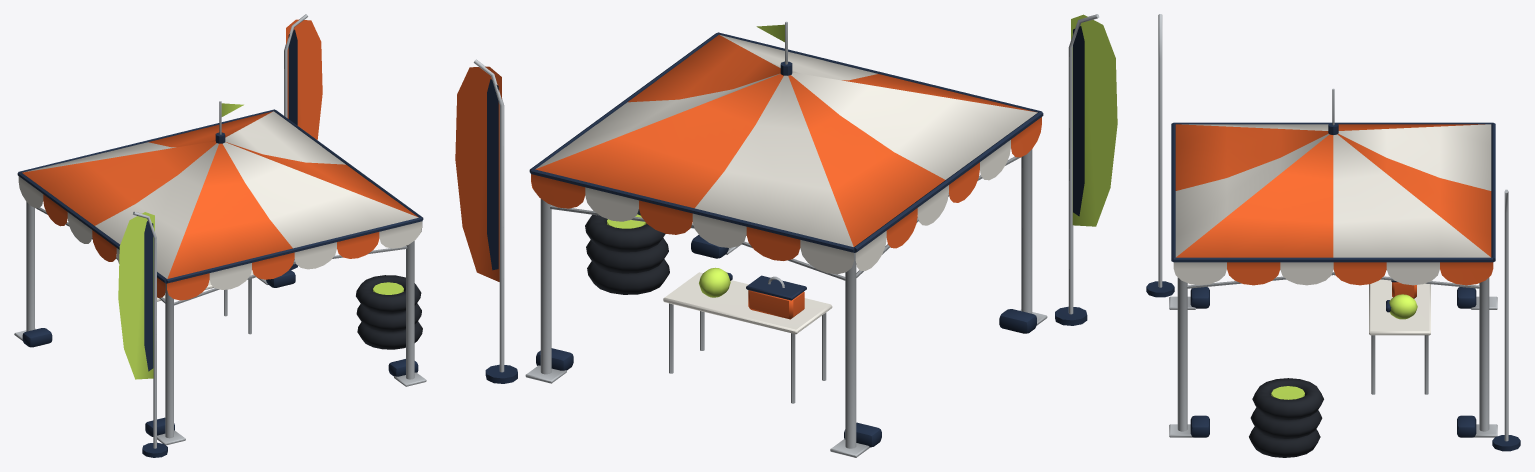
Rendered from tent.glb.
3 renders of one model, left to right at view 1: azimuth 30°, elevation 25°; view 2: azimuth 150°, elevation 25°; view 3: azimuth 270°, elevation 25°, orthographic. The views are drawn at different scales.
Visible parts, largest first — view 1: Pit tent Canopy orange, Pit tent Canopy ivory, Pit tent Pit steel, Pit tent Pit navy, Pit tent Pit lime, Pit tent Tyre rubber, Pit tent Pit navy print; view 2: Pit tent Canopy orange, Pit tent Canopy ivory, Pit tent Pit steel, Pit tent Pit navy, Pit tent Pit lime, Pit tent Tyre rubber, Pit tent Pit navy print; view 3: Pit tent Canopy ivory, Pit tent Canopy orange, Pit tent Pit steel, Pit tent Pit navy, Pit tent Tyre rubber, Pit tent Pit lime.
Boxes of the visible parts, x1,y1,x2,y2 form: Pit tent Canopy orange: (22, 19, 418, 300); Pit tent Canopy ivory: (18, 111, 422, 301); Pit tent Pit steel: (14, 14, 426, 448); Pit tent Pit navy: (17, 109, 423, 457); Pit tent Pit lime: (118, 103, 403, 379); Pit tent Tyre rubber: (356, 275, 422, 349); Pit tent Pit navy print: (144, 29, 297, 371); Pit tent Canopy orange: (455, 35, 1041, 319); Pit tent Canopy ivory: (536, 35, 1037, 334); Pit tent Pit steel: (473, 14, 1099, 457); Pit tent Pit navy: (485, 32, 1087, 447); Pit tent Pit lime: (607, 14, 1117, 297); Pit tent Tyre rubber: (585, 209, 669, 294); Pit tent Pit navy print: (487, 26, 1084, 270); Pit tent Canopy ivory: (1173, 124, 1491, 335); Pit tent Canopy orange: (1175, 124, 1493, 298); Pit tent Pit steel: (1158, 14, 1508, 441); Pit tent Pit navy: (1146, 122, 1520, 451); Pit tent Tyre rubber: (1249, 378, 1323, 457); Pit tent Pit lime: (1271, 294, 1417, 399).
Size of the model in its own units: 5.14 by 3.47 by 4.22.
